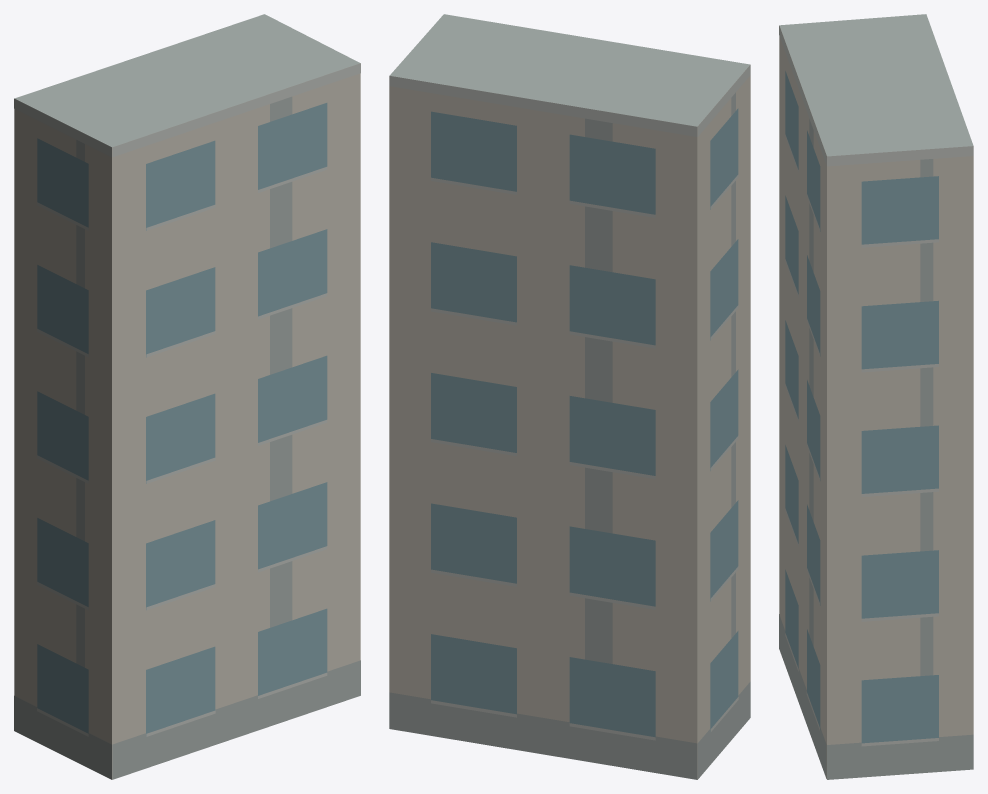
File: survey-upis-32575678.glb
3 renders of one model, left to right at view 1: azimuth 30°, elevation 25°; view 2: azimuth 150°, elevation 25°; view 3: azimuth 270°, elevation 25°, orthographic. The views are drawn at different scales.
Parts seen in each view (by area): view 1: survey-upis-32575678.tmp; view 2: survey-upis-32575678.tmp; view 3: survey-upis-32575678.tmp.
Boxes of the visible parts, bbox=[...] form: survey-upis-32575678.tmp: bbox=[14, 14, 360, 779]; survey-upis-32575678.tmp: bbox=[389, 14, 750, 779]; survey-upis-32575678.tmp: bbox=[779, 14, 973, 779].
Size of the model in its own units: 7.48 by 15.25 by 4.32.
